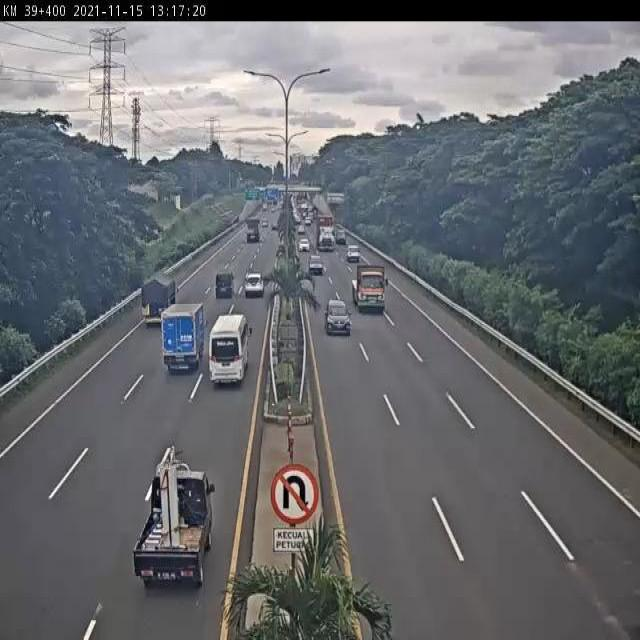bus-s-: (207, 311, 251, 388)
car: (321, 297, 354, 335), (242, 269, 266, 299), (214, 269, 237, 300), (307, 252, 324, 277)
truck-l-: (350, 264, 391, 315)
truck-s-: (132, 467, 214, 585), (159, 299, 207, 373), (138, 271, 180, 325)
